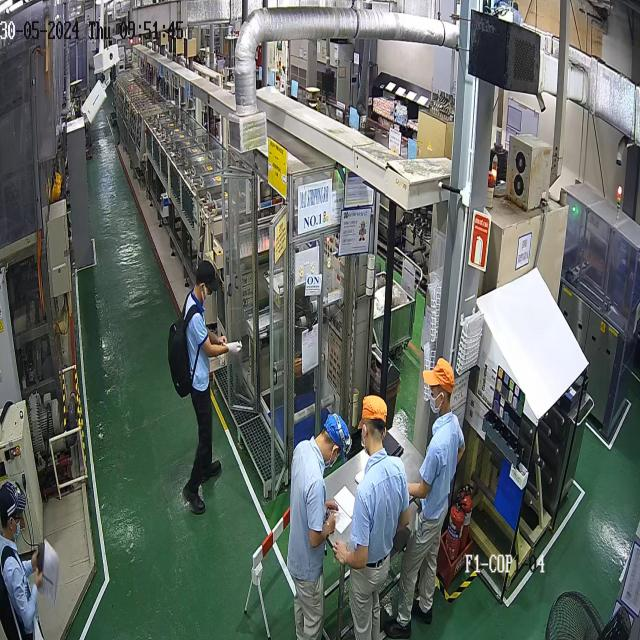Person: (383, 357, 466, 639), (332, 394, 410, 639), (286, 407, 352, 640), (180, 260, 230, 515), (0, 480, 45, 639)
